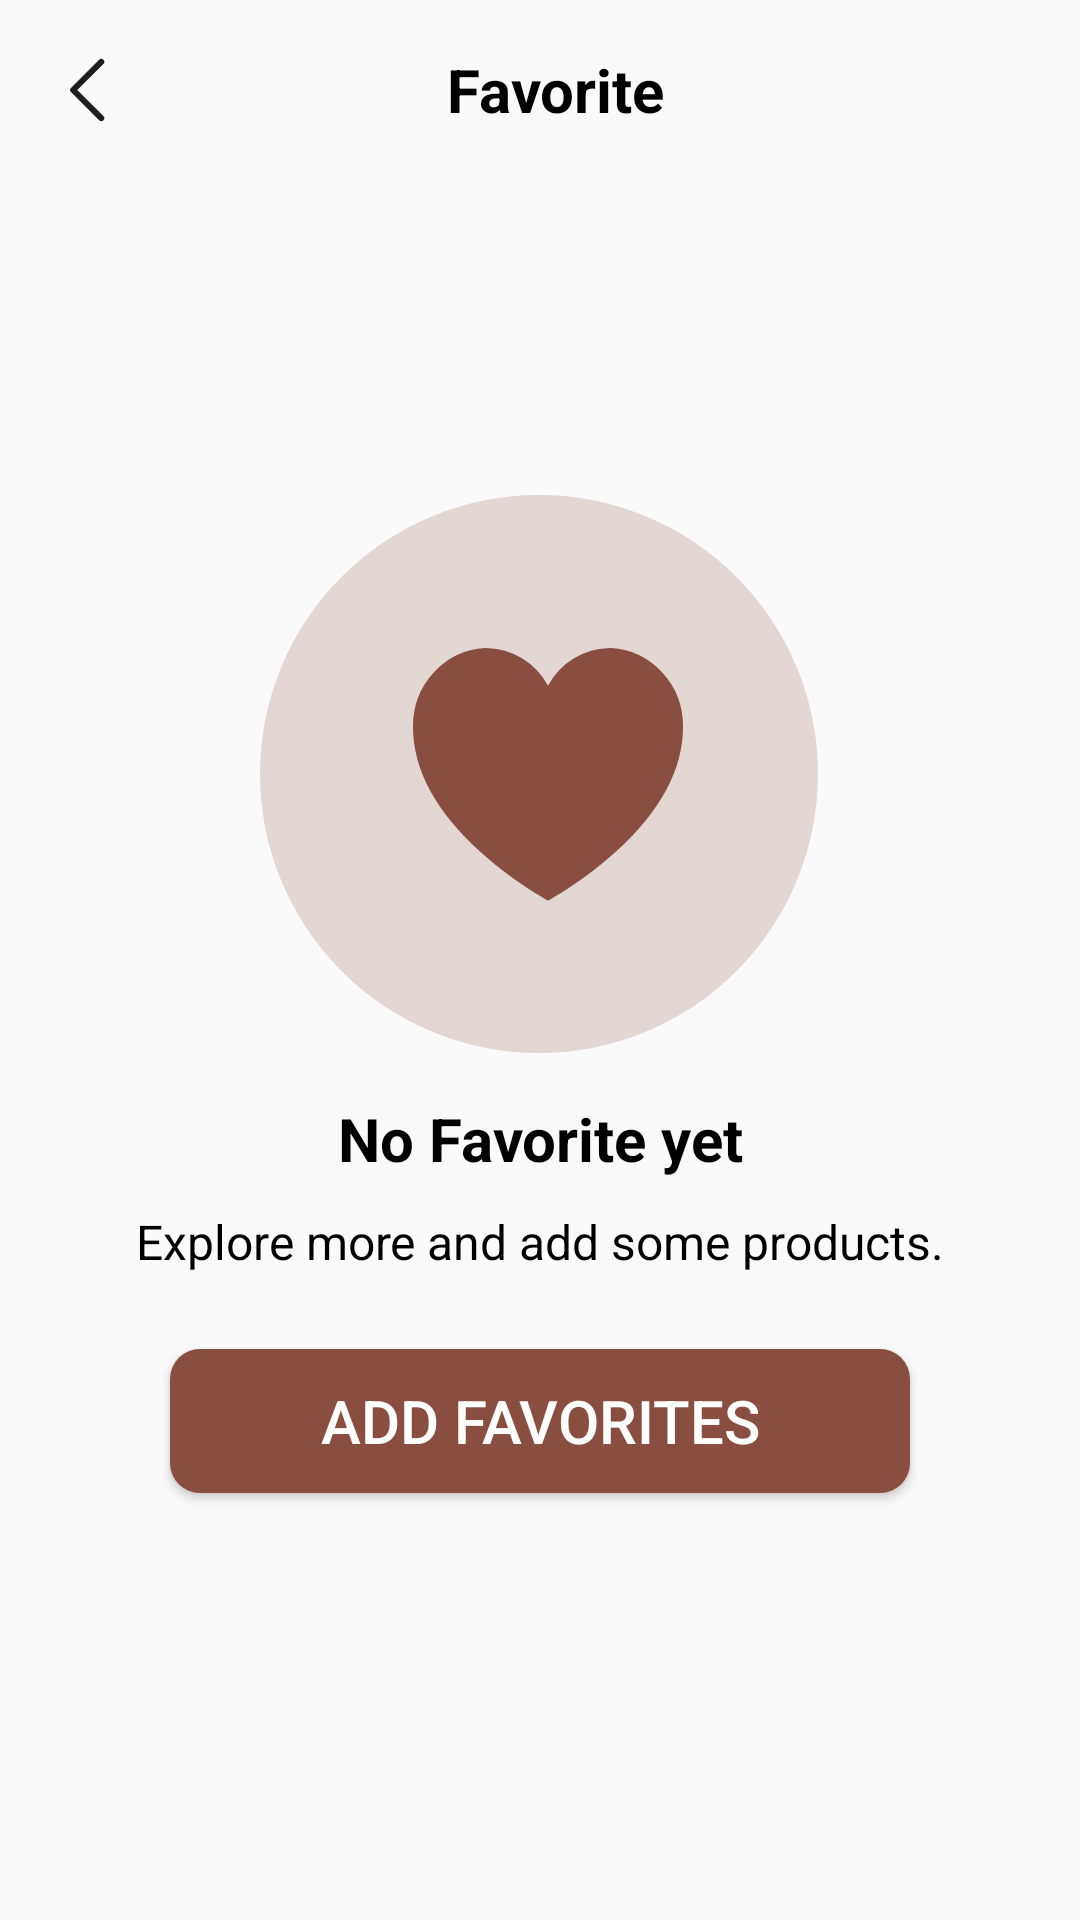

Where to tap for icons on this 1080×1920 app screen, as (x,y):
back: (87,90)
